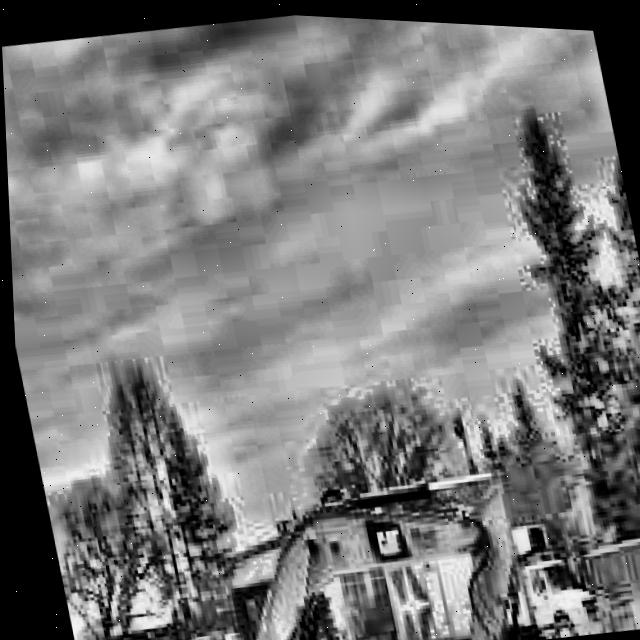excavator: (73, 425, 547, 640)
